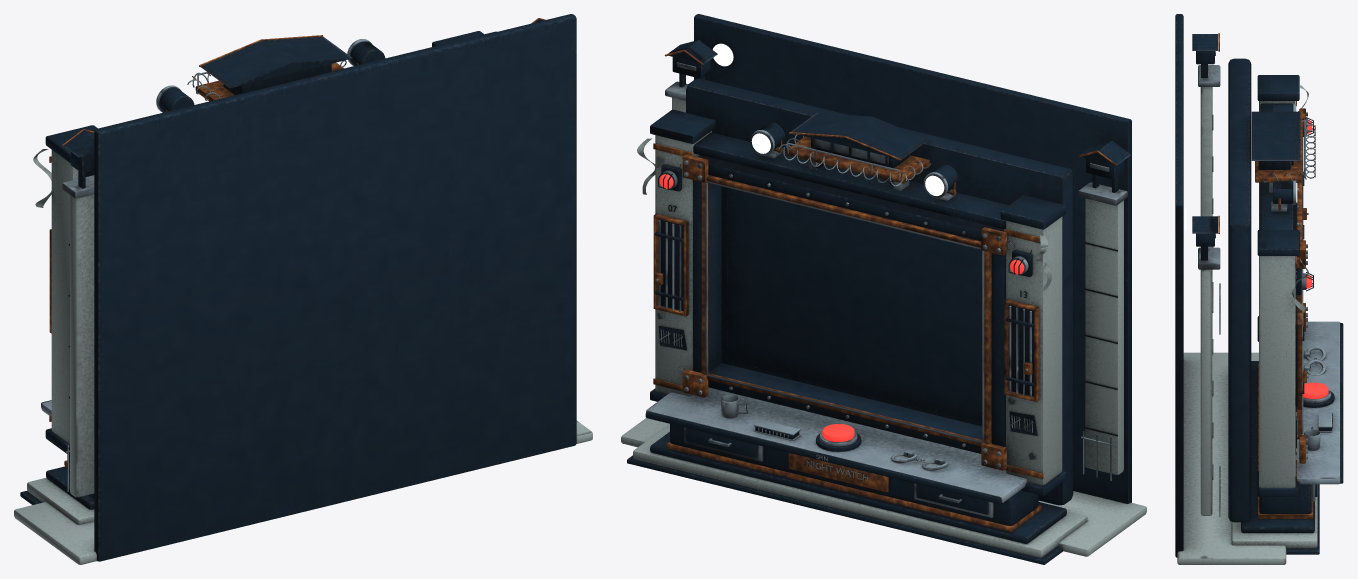
3 renders of one model, left to right at view 1: azimuth 30°, elevation 25°; view 2: azimuth 150°, elevation 25°; view 3: azimuth 270°, elevation 25°, orthographic. The views are drawn at different scales.
Parts seen in each view (by area): view 1: Weathered_midnight_paint, Chipped_pale_concrete, Pitted_brown_iron_oxide, Scuffed_galvanized_steel; view 2: Weathered_midnight_paint, Chipped_pale_concrete, Scuffed_galvanized_steel, Pitted_brown_iron_oxide, Cold_searchlight_glow, Alarm_red_glow; view 3: Weathered_midnight_paint, Chipped_pale_concrete, Scuffed_galvanized_steel, Pitted_brown_iron_oxide, Alarm_red_glow.
Boxes of the visible parts, bbox=[...] form: Weathered_midnight_paint: bbox=[20, 14, 576, 561]; Chipped_pale_concrete: bbox=[14, 149, 592, 564]; Pitted_brown_iron_oxide: bbox=[49, 18, 545, 469]; Scuffed_galvanized_steel: bbox=[41, 39, 372, 491]; Weathered_midnight_paint: bbox=[627, 14, 1131, 564]; Chipped_pale_concrete: bbox=[621, 97, 1146, 557]; Scuffed_galvanized_steel: bbox=[646, 62, 1127, 517]; Pitted_brown_iron_oxide: bbox=[653, 49, 1117, 531]; Cold_searchlight_glow: bbox=[712, 43, 944, 195]; Alarm_red_glow: bbox=[659, 174, 1024, 441]; Weathered_midnight_paint: bbox=[1175, 14, 1343, 557]; Chipped_pale_concrete: bbox=[1177, 85, 1317, 564]; Scuffed_galvanized_steel: bbox=[1198, 51, 1340, 517]; Pitted_brown_iron_oxide: bbox=[1218, 33, 1315, 518]; Alarm_red_glow: bbox=[1303, 119, 1328, 398].
Bounding box in the file's own units: 11.65 × 9.3 × 4.02.
Materials: 6 (4 with a texture image).
